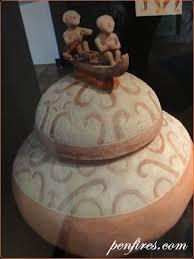manunggul_jar: (3, 5, 194, 259)
